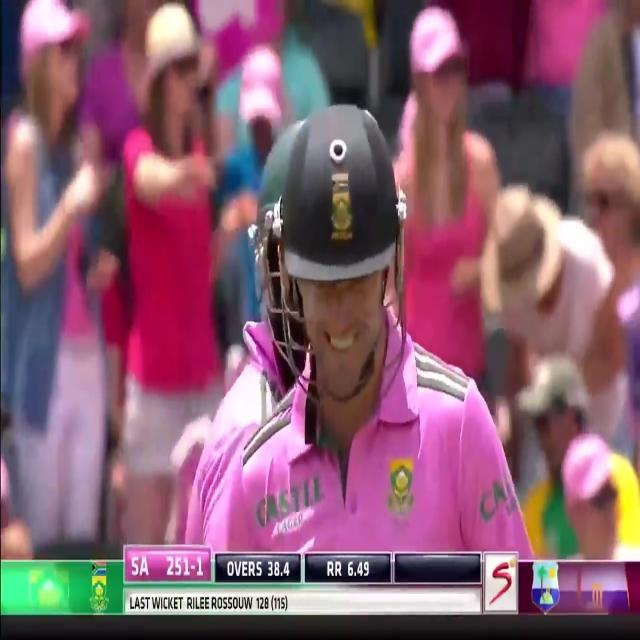Ball: (203, 104, 531, 557)
